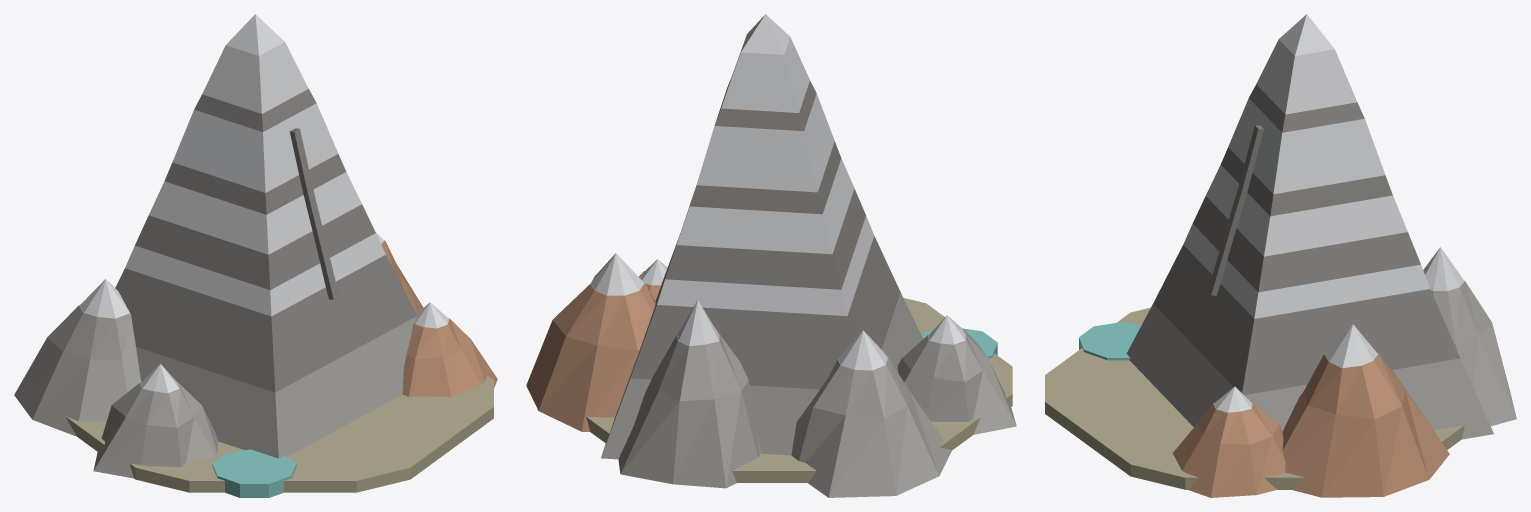
File: mt-kailash.glb
3 renders of one model, left to right at view 1: azimuth 30°, elevation 25°; view 2: azimuth 150°, elevation 25°; view 3: azimuth 270°, elevation 25°, orthographic. The views are drawn at different scales.
Parts seen in each view (by area): view 1: LOD0; view 2: LOD0; view 3: LOD0.
Boxes of the visible parts, <box> form: LOD0: <box>14,14,497,497</box>; LOD0: <box>526,14,1016,497</box>; LOD0: <box>1045,14,1516,497</box>.
Size of what is drawn, in the model's own units: 1.83 by 1.66 by 1.84.
